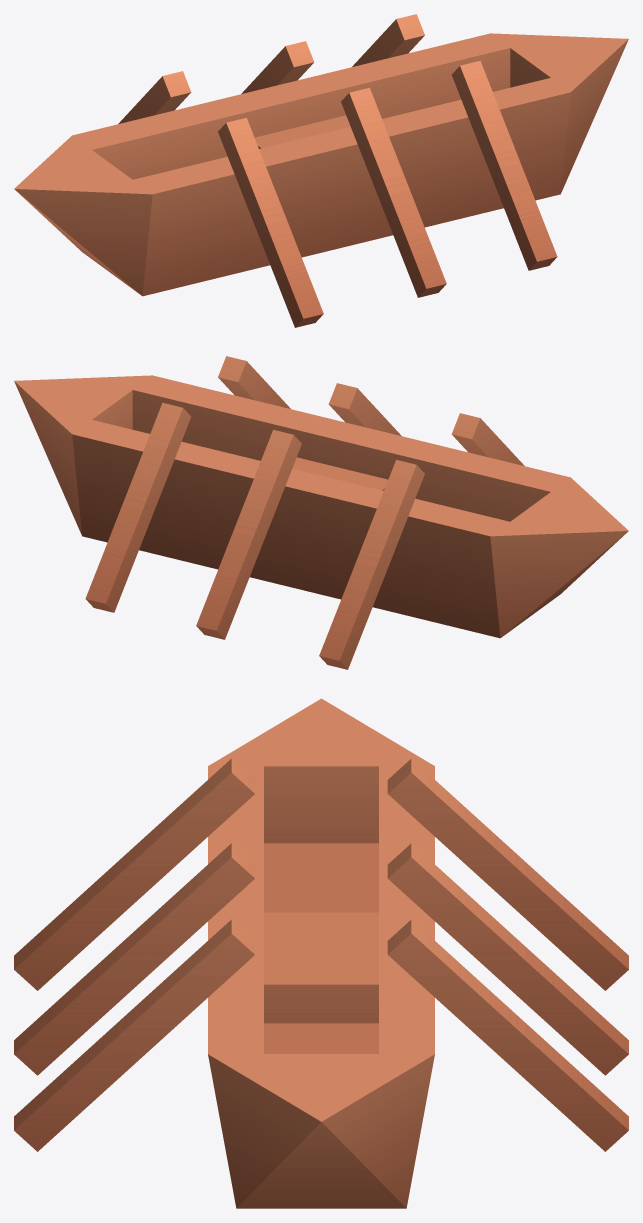
Rendered from boat.fbx.
3 views of the same model, one above another, from view 1: azimuth 30°, elevation 25°; view 2: azimuth 150°, elevation 25°; view 3: azimuth 270°, elevation 25° (orthographic). The views are drawn at different scales.
Parts seen in each view (by area): view 1: unit_ship; view 2: unit_ship; view 3: unit_ship.
Boxes of the visible parts, x1,y1,x2,y2 form: unit_ship: [14, 14, 628, 327]; unit_ship: [14, 356, 628, 669]; unit_ship: [14, 698, 628, 1208].
Bounding box in the file's own units: 64.5 × 15.53 × 39.59.
